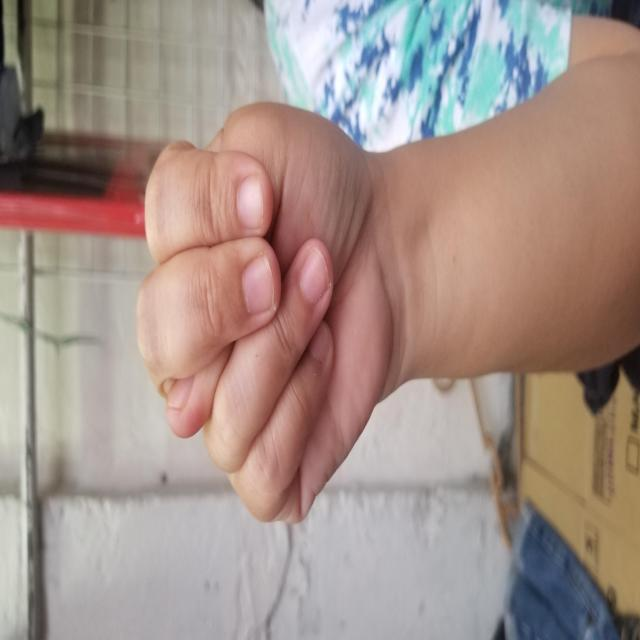N: (113, 86, 450, 564)
